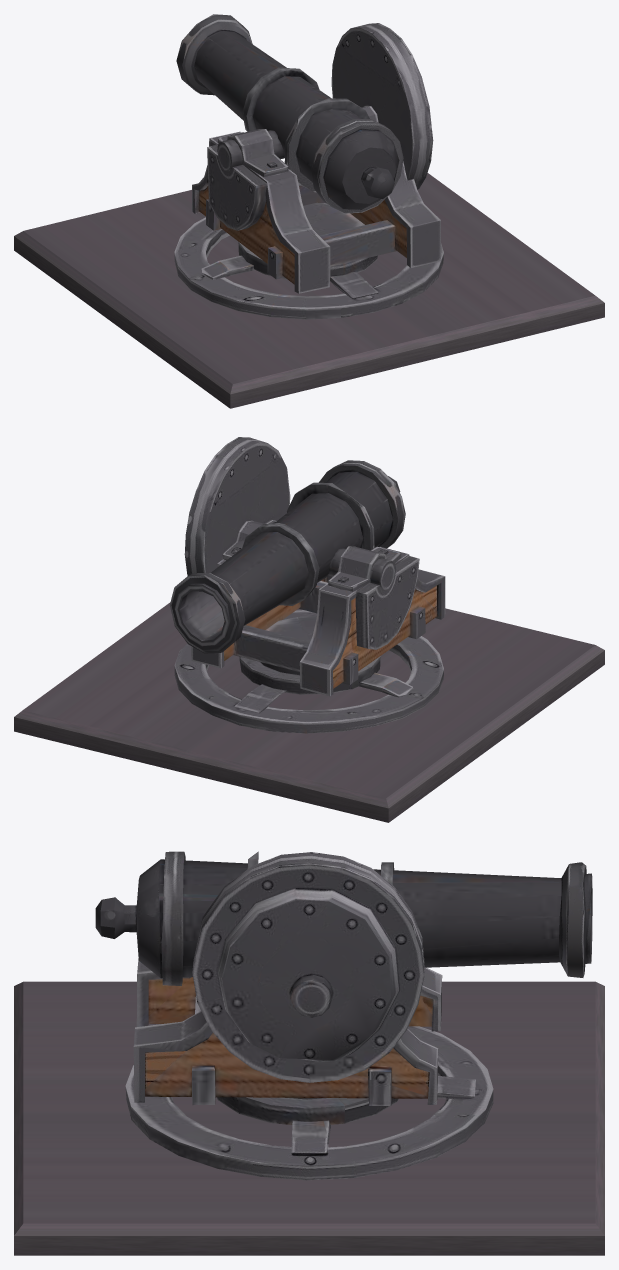
Rendered from cannon22a.glb.
3 renders of one model, top to bottom at view 1: azimuth 30°, elevation 25°; view 2: azimuth 150°, elevation 25°; view 3: azimuth 270°, elevation 25°, orthographic. The views are drawn at different scales.
Parts seen in each view (by area): view 1: plate, mount, barrel; view 2: plate, mount, barrel; view 3: plate, mount, barrel.
Part boxes in pixels (x1,y1,x2,y2): plate: [14, 173, 604, 408]; mount: [174, 23, 443, 319]; barrel: [176, 14, 403, 213]; plate: [14, 602, 604, 822]; mount: [174, 437, 445, 733]; barrel: [169, 460, 405, 653]; plate: [14, 981, 604, 1255]; mount: [125, 852, 493, 1180]; barrel: [95, 851, 592, 985].
Size of the model in its own units: 1.9 by 1.14 by 1.9.
2 materials, 2 textured.
